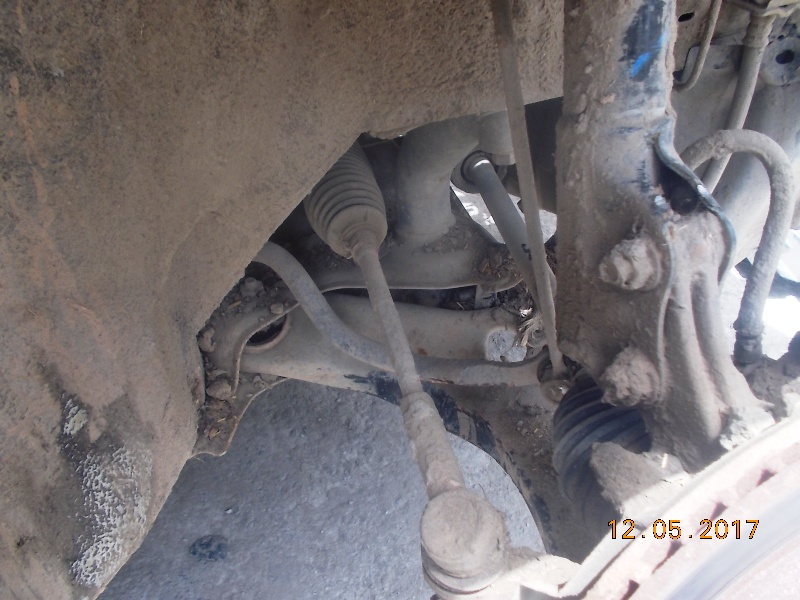Scratch_or_spot: (346, 73, 387, 131)
